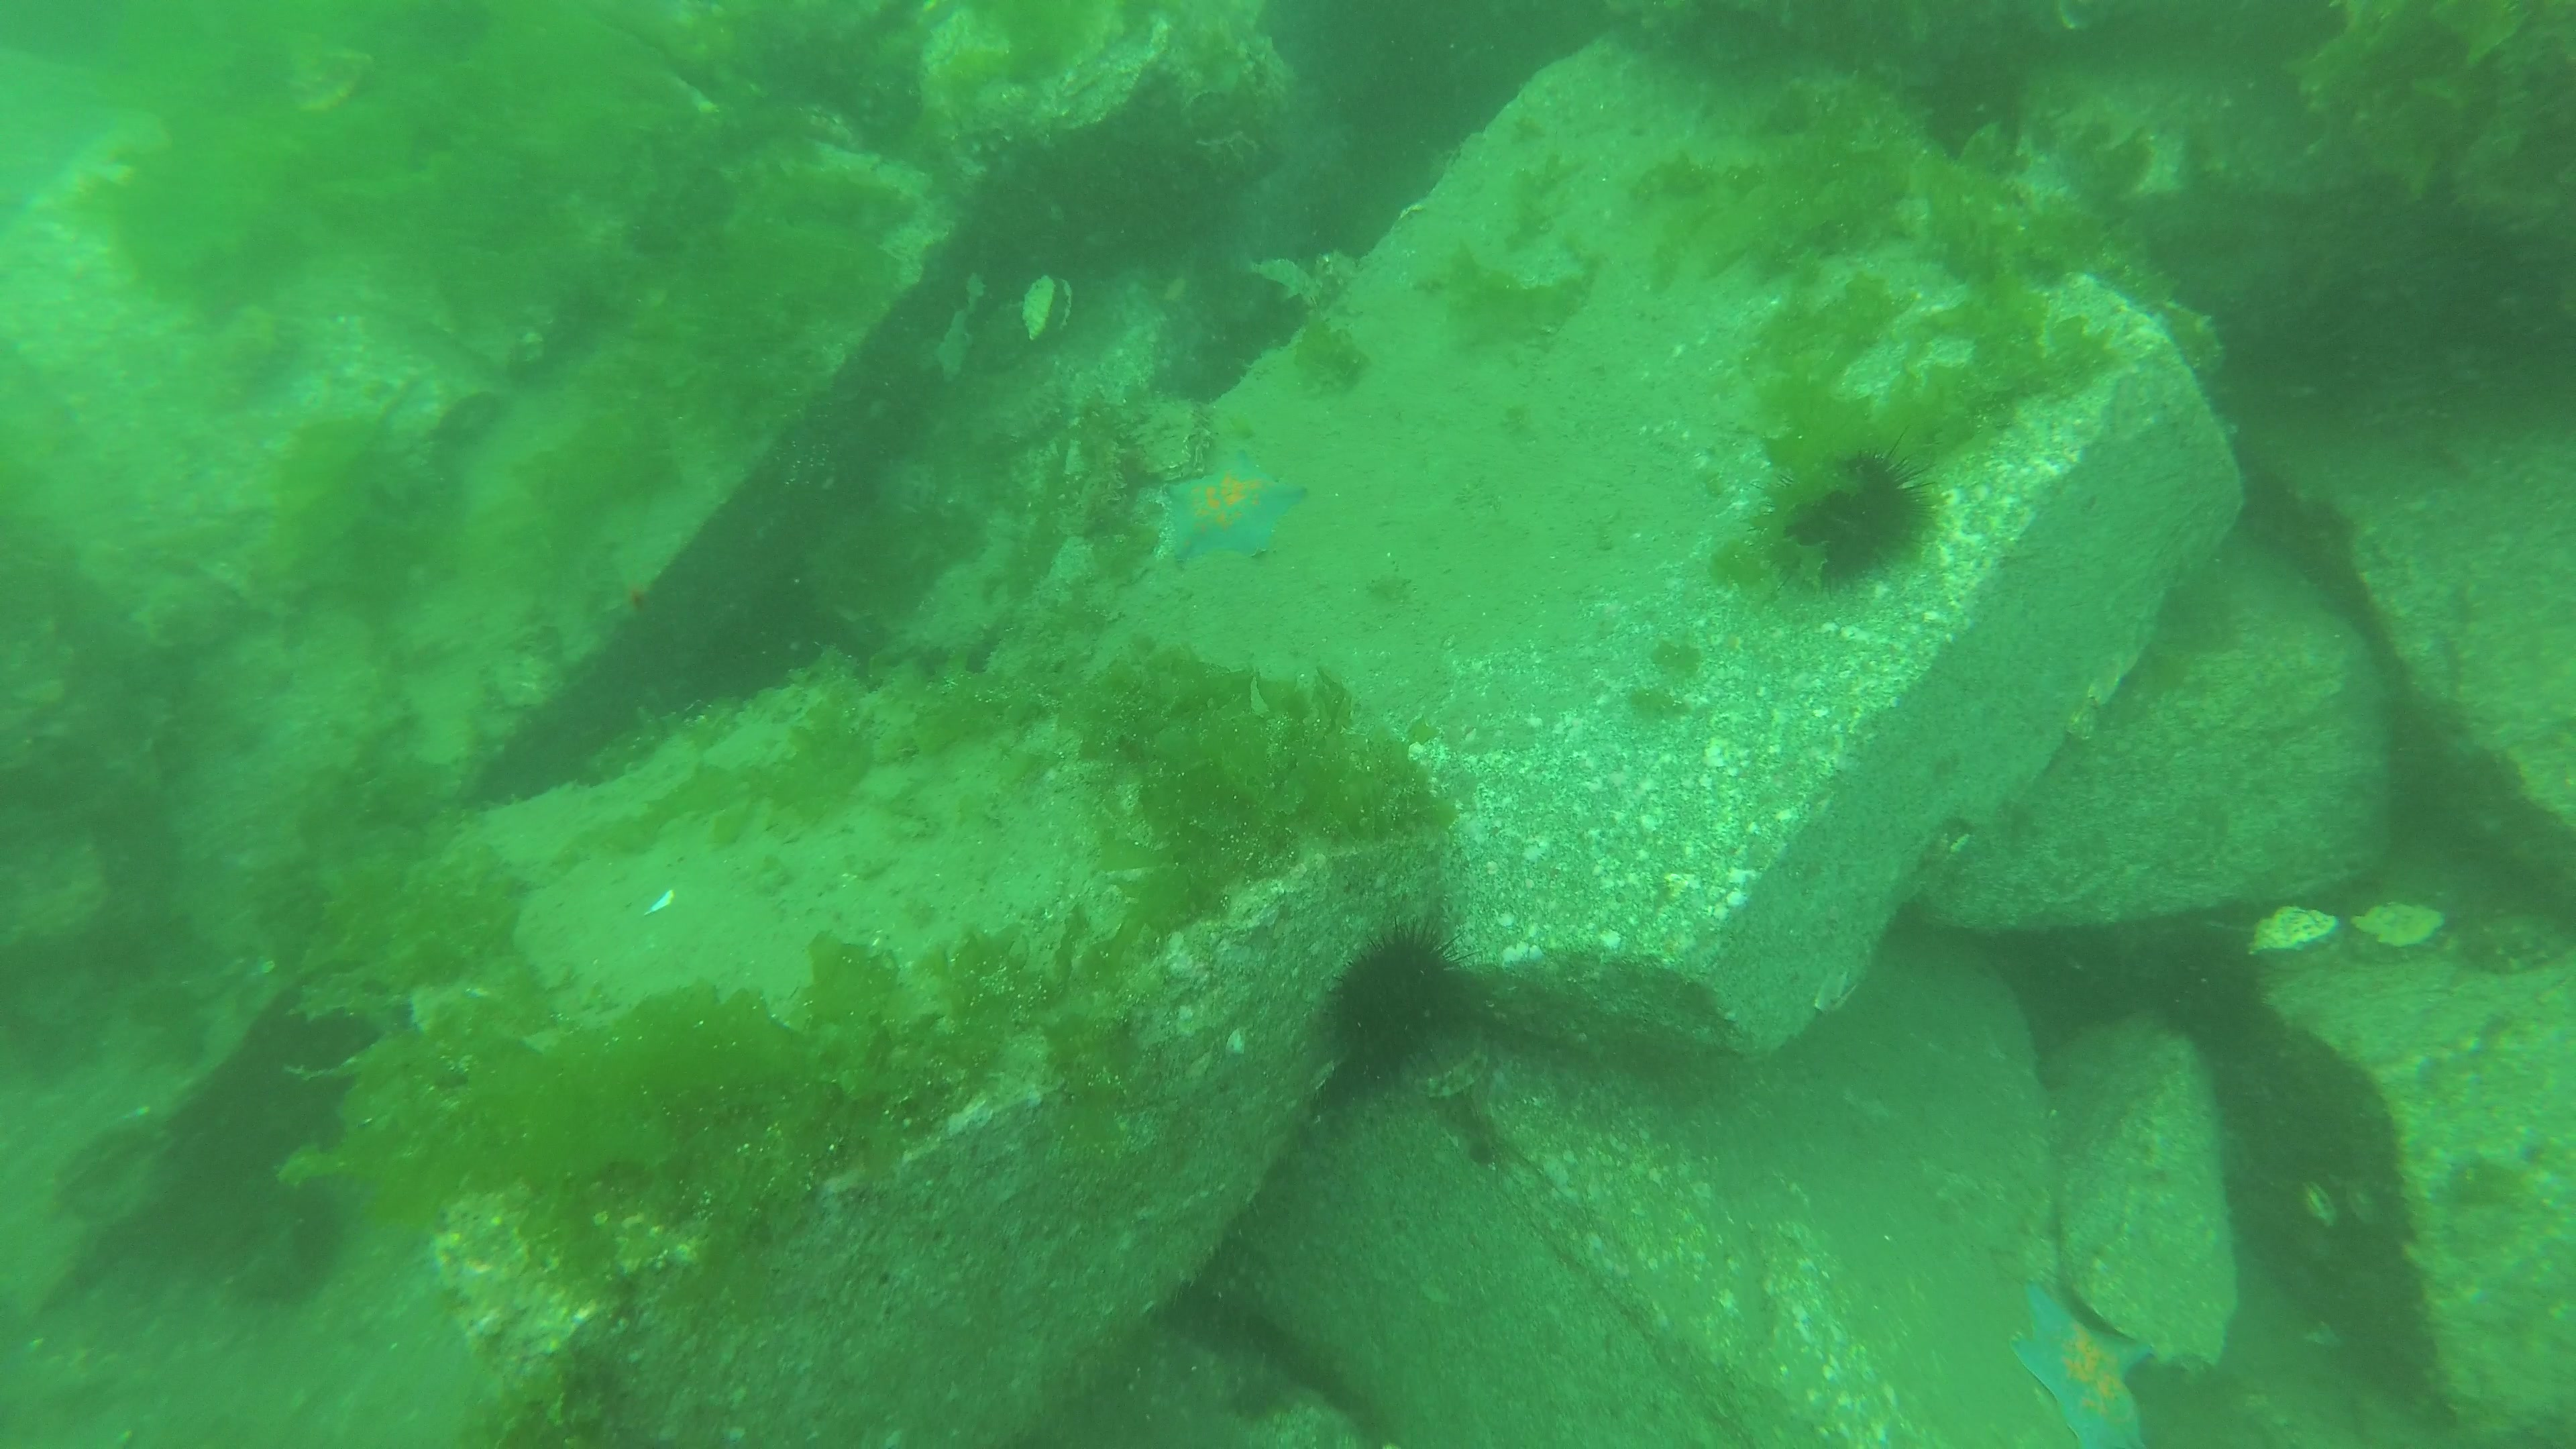echinus: (1743, 441, 1941, 589), (1327, 915, 1474, 1085), (2166, 925, 2266, 1054)
starfish: (2006, 1279, 2151, 1449), (1159, 449, 1313, 568)
